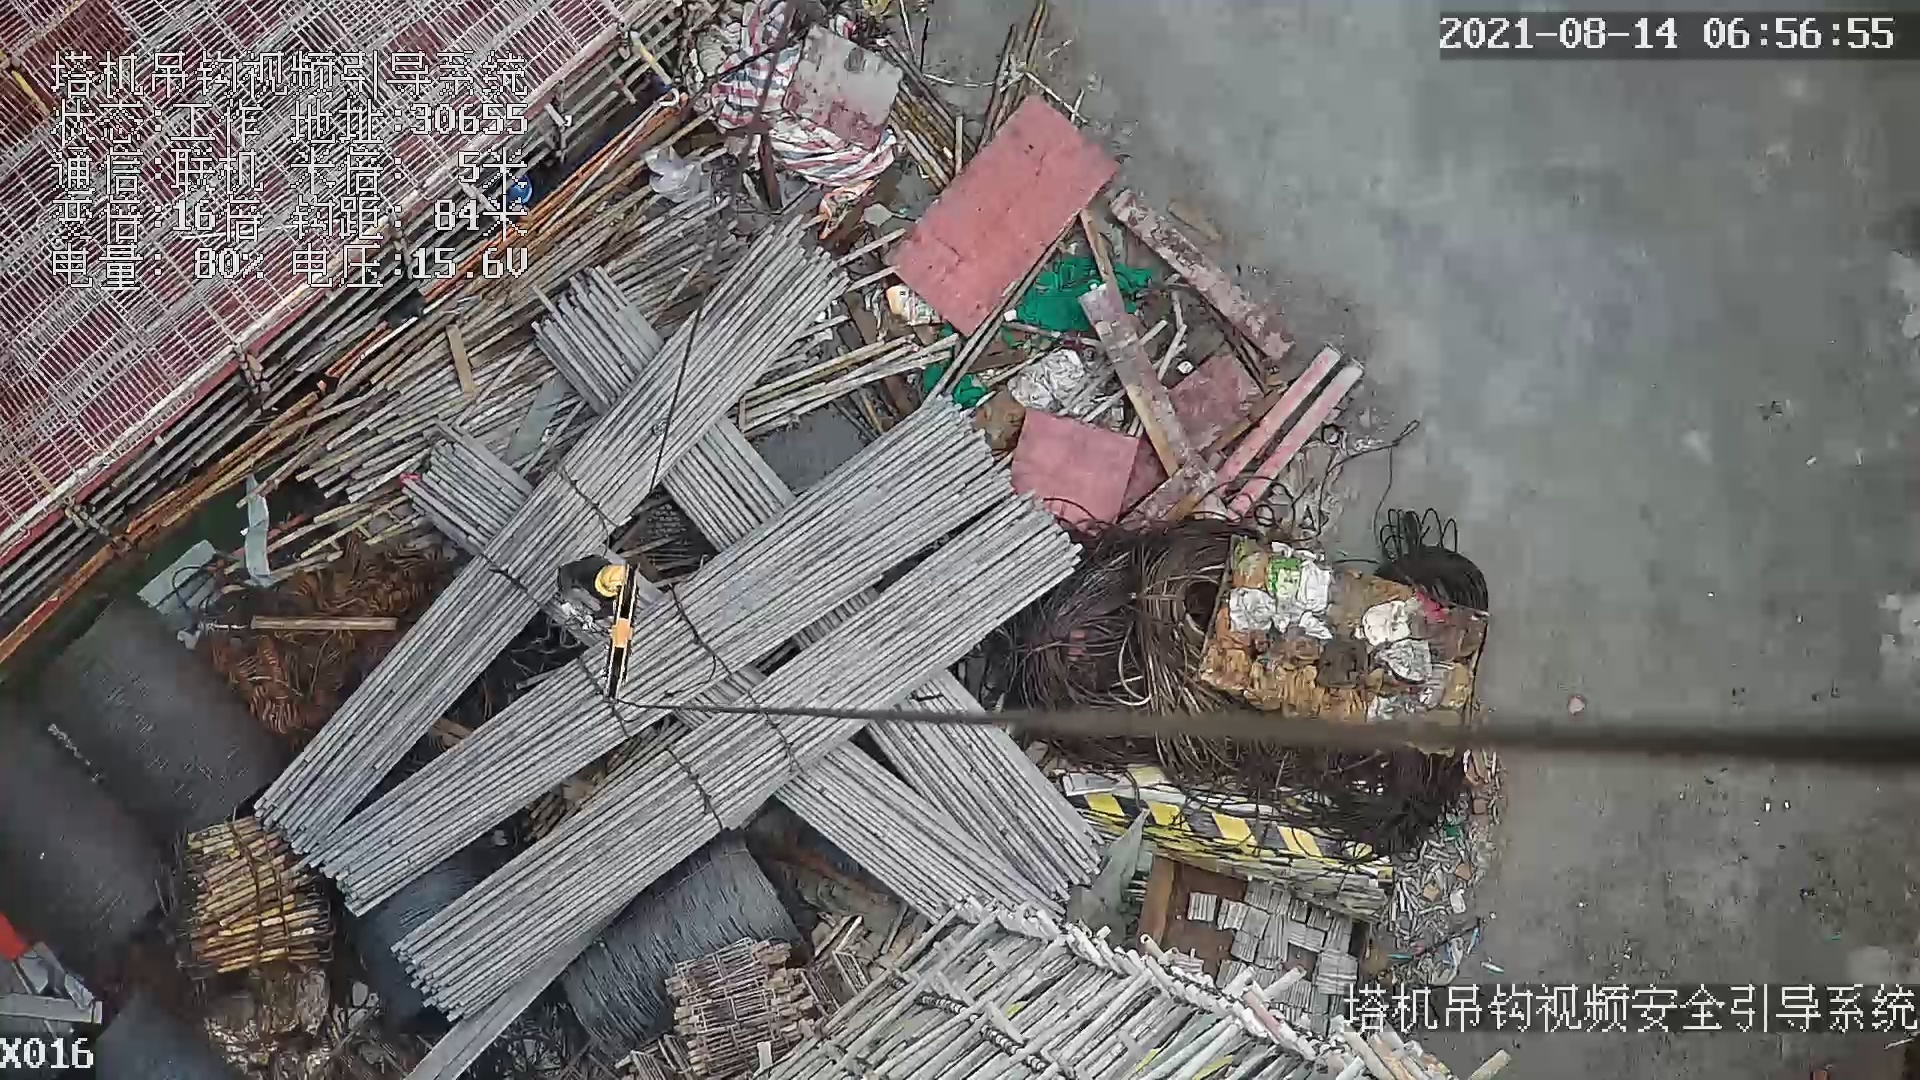helmet: (594, 564, 624, 597)
hook: (604, 559, 641, 714)
person: (555, 550, 640, 622)
rebar: (251, 222, 844, 856), (312, 396, 1009, 918), (394, 496, 1083, 1020), (771, 741, 1077, 922), (878, 677, 1100, 903)
wood: (177, 818, 339, 973)
